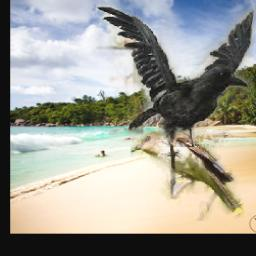Crow: (96, 6, 255, 148)
Cuckoo: (132, 131, 245, 221)
